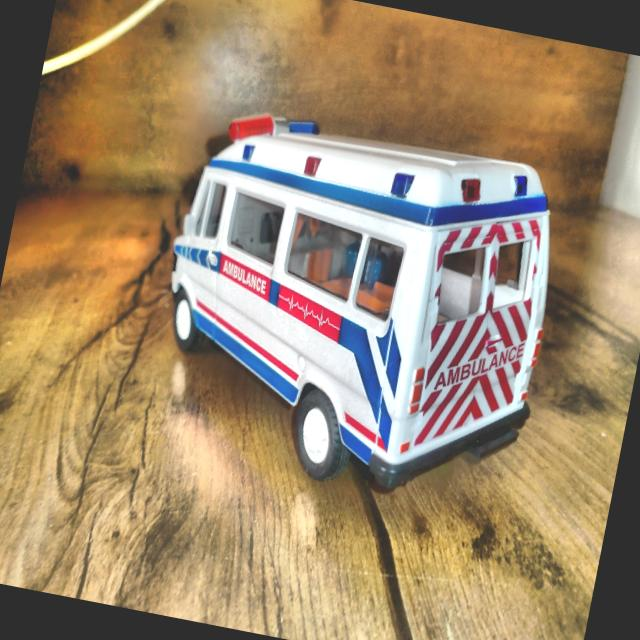Ambulance: (135, 102, 572, 516)
